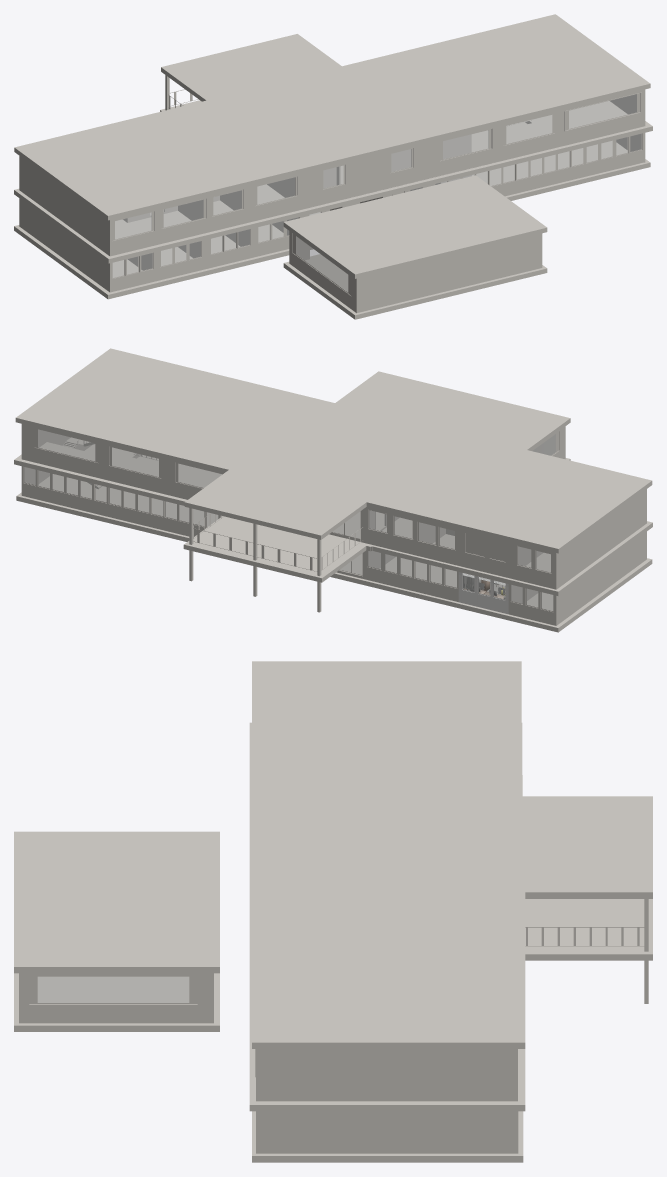
Rendered from kacyber_walk.glb.
3 renders of one model, top to bottom at view 1: azimuth 30°, elevation 25°; view 2: azimuth 150°, elevation 25°; view 3: azimuth 270°, elevation 25°, orthographic. The views are drawn at different scales.
Parts seen in each view (by area): view 1: BEYOND_L2_SLAB, BEYOND_L1_WALL, BEYOND_L0_WALL, BEYOND_L0_SLAB, BEYOND_L1_SLAB, BEYOND_L1_GLASS, BEYOND_L0_GLASS, BEYOND_L1_FRAME, UPPER_in_zone, BEYOND_L0_FRAME, BEYOND_L1_OTHER, BEYOND_L0_OTHER; view 2: BEYOND_L2_SLAB, BEYOND_L1_SLAB, BEYOND_L1_WALL, BEYOND_L0_WALL, BEYOND_L0_SLAB, BEYOND_L1_GLASS, BEYOND_L0_GLASS, UPPER_in_zone, BEYOND_L0_FRAME, BEYOND_L1_FRAME, BAKE_wall_north, BEYOND_L1_OTHER (+6 smaller); view 3: BEYOND_L2_SLAB, BEYOND_L0_WALL, BEYOND_L1_WALL, BEYOND_L1_SLAB, BEYOND_L0_SLAB, BEYOND_L0_GLASS, UPPER_in_zone, BEYOND_L0_FRAME.
Part boxes in pixels (x1=…): BEYOND_L2_SLAB: x1=14, y1=14, x2=650, y2=278; BEYOND_L1_WALL: x1=19, y1=89, x2=645, y2=256; BEYOND_L0_WALL: x1=19, y1=133, x2=645, y2=313; BEYOND_L0_SLAB: x1=14, y1=122, x2=650, y2=319; BEYOND_L1_SLAB: x1=14, y1=100, x2=652, y2=263; BEYOND_L1_GLASS: x1=115, y1=94, x2=636, y2=238; BEYOND_L0_GLASS: x1=113, y1=134, x2=641, y2=291; BEYOND_L1_FRAME: x1=113, y1=93, x2=640, y2=240; UPPER_in_zone: x1=67, y1=123, x2=153, y2=162; BEYOND_L0_FRAME: x1=112, y1=134, x2=642, y2=295; BEYOND_L1_OTHER: x1=112, y1=89, x2=641, y2=240; BEYOND_L0_OTHER: x1=124, y1=133, x2=642, y2=295; BEYOND_L2_SLAB: x1=15, y1=348, x2=652, y2=553; BEYOND_L1_SLAB: x1=14, y1=442, x2=652, y2=596; BEYOND_L1_WALL: x1=21, y1=424, x2=646, y2=589; BEYOND_L0_WALL: x1=21, y1=426, x2=646, y2=625; BEYOND_L0_SLAB: x1=16, y1=444, x2=652, y2=632; BEYOND_L1_GLASS: x1=38, y1=429, x2=550, y2=572; BEYOND_L0_GLASS: x1=24, y1=434, x2=555, y2=610; UPPER_in_zone: x1=458, y1=496, x2=544, y2=577; BEYOND_L0_FRAME: x1=23, y1=431, x2=558, y2=611; BEYOND_L1_FRAME: x1=34, y1=428, x2=551, y2=573; BAKE_wall_north: x1=458, y1=572, x2=508, y2=614; BEYOND_L1_OTHER: x1=34, y1=428, x2=551, y2=573; BEYOND_L2_SLAB: x1=14, y1=661, x2=652, y2=1048; BEYOND_L0_WALL: x1=19, y1=973, x2=518, y2=1153; BEYOND_L1_WALL: x1=256, y1=1049, x2=517, y2=1101; BEYOND_L1_SLAB: x1=249, y1=722, x2=652, y2=1111; BEYOND_L0_SLAB: x1=14, y1=775, x2=523, y2=1162; BEYOND_L0_GLASS: x1=38, y1=977, x2=188, y2=1002; UPPER_in_zone: x1=412, y1=697, x2=517, y2=732; BEYOND_L0_FRAME: x1=29, y1=976, x2=197, y2=1003.
Bounding box in the file's own units: 38.22 × 5.6 × 27.
Materials: 11 (8 with a texture image).
